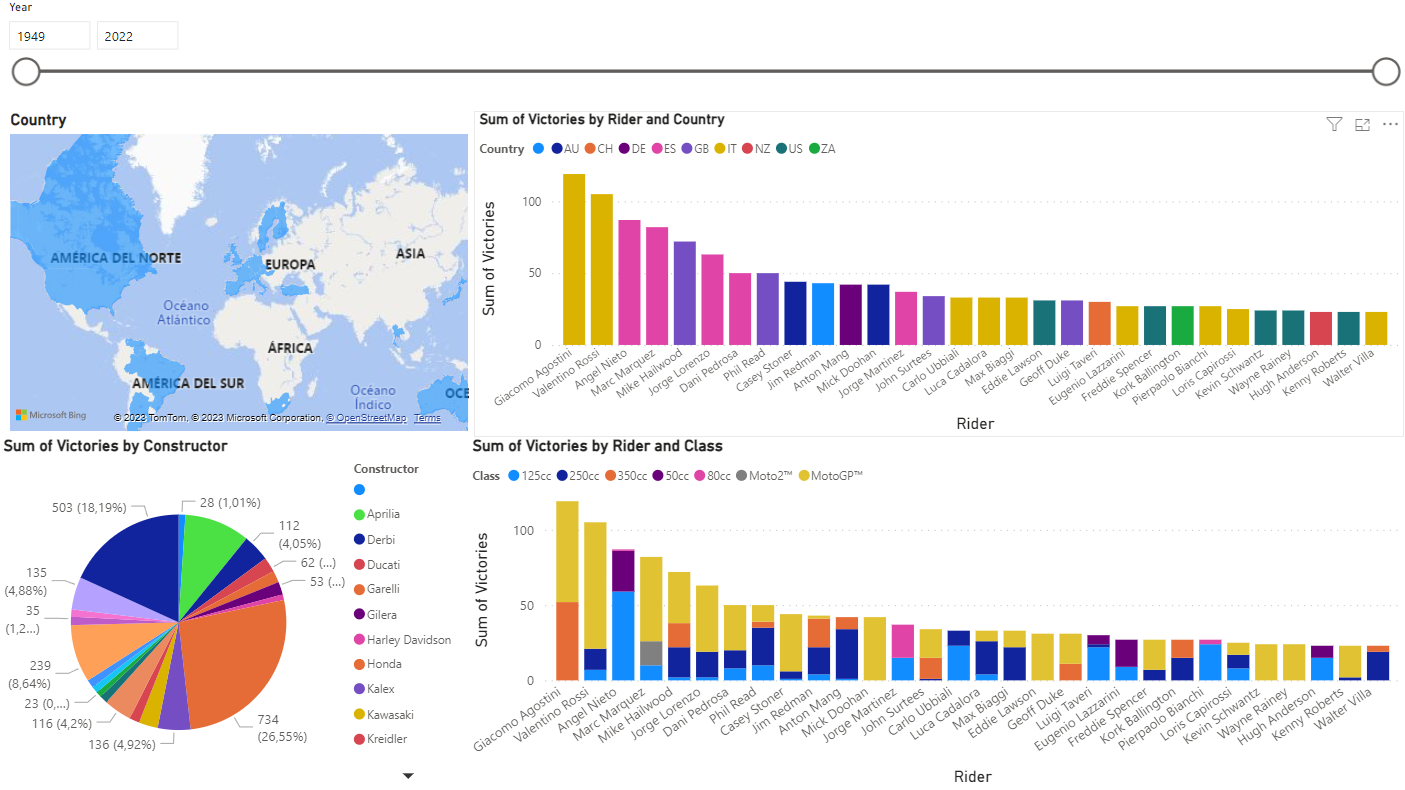

What the dashboard file says about the page in this screenshot:
{"tool":"powerbi","page":{"name":"Página 1","canvas":[1280,720],"ordinal":0},"visuals":[{"type":"filledMap","title":"Country","fields":{"Category":["grand-prix-race-winners.Country"]},"box":[6.4,102.7,426.4,296.4],"z":0},{"type":"columnChart","title":"Sum of Victories by Rider and Country","fields":{"Category":["grand-prix-race-winners.Rider"],"Y":["grand-prix-race-winners.Columna"],"Series":["grand-prix-race-winners.Country"]},"box":[432.7,102.7,845.5,296.4],"z":1000},{"type":"pieChart","fields":{"Y":["grand-prix-race-winners.Victorias"],"Series":["grand-prix-race-winners.Constructor"]},"box":[0,399.1,426.4,320.9],"z":2000},{"type":"columnChart","fields":{"Category":["grand-prix-race-winners.Rider"],"Y":["grand-prix-race-winners.Columna"],"Series":["grand-prix-race-winners.Class"]},"box":[426.4,399.1,853.6,320.9],"z":3000},{"type":"slicer","fields":{"Values":["grand-prix-race-winners.Season"]},"box":[0,0,1280,97.3],"z":4000}]}

Visuals, with their boxes in screenshot pixels (x1, y1, x2, y2), scaled from the page's 1280x720 canvas onto the 1405x790 screenshot:
"Country" filledMap: [7,113,475,438]
"Sum of Victories by Rider and Country" columnChart: [475,113,1403,438]
pieChart - grand-prix-race-winners.Victorias x grand-prix-race-winners.Constructor: [0,438,468,789]
columnChart - grand-prix-race-winners.Rider x grand-prix-race-winners.Columna: [468,438,1404,789]
slicer - grand-prix-race-winners.Season: [0,0,1404,107]
